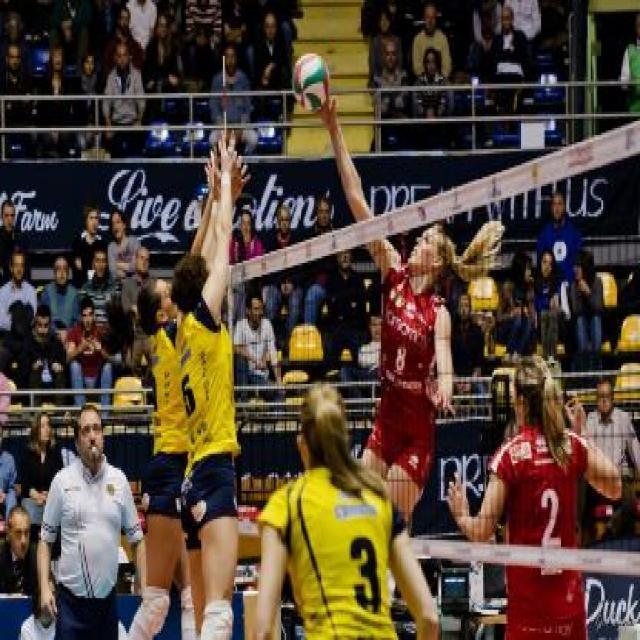volleyball: (292, 54, 331, 110)
